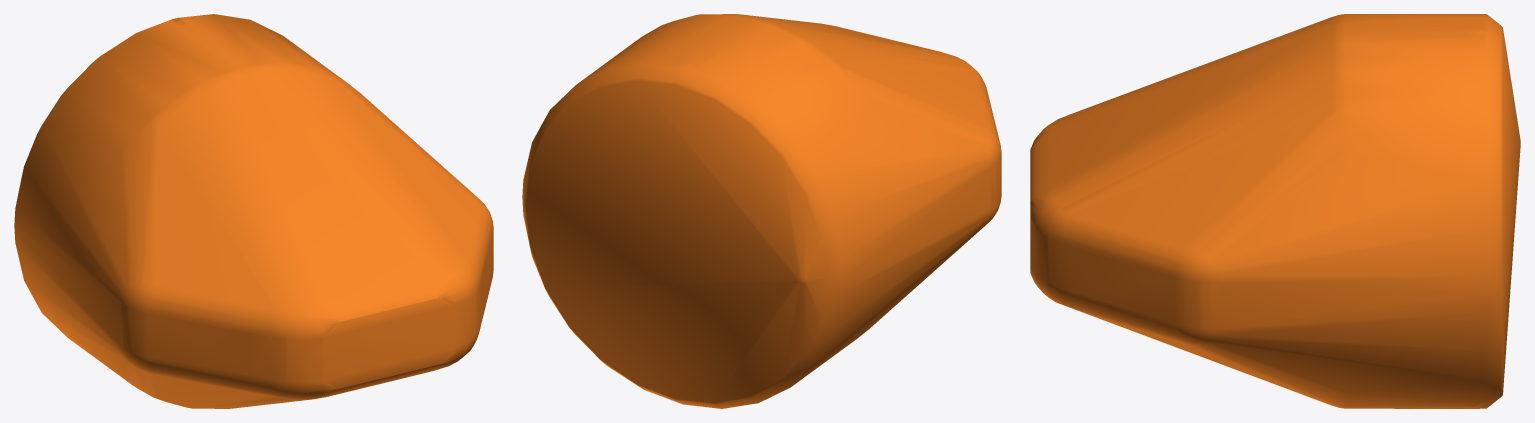
3 renders of one model, left to right at view 1: azimuth 30°, elevation 25°; view 2: azimuth 150°, elevation 25°; view 3: azimuth 270°, elevation 25°, orthographic. The views are drawn at different scales.
Parts seen in each view (by area): view 1: gripper_frame; view 2: gripper_frame; view 3: gripper_frame.
Part boxes in pixels (x1,y1,x2,y2): gripper_frame: (14,14,493,408); gripper_frame: (522,14,1001,408); gripper_frame: (1030,14,1520,408).
Bounding box in the file's own units: 0.0848 × 0.075 × 0.093.
